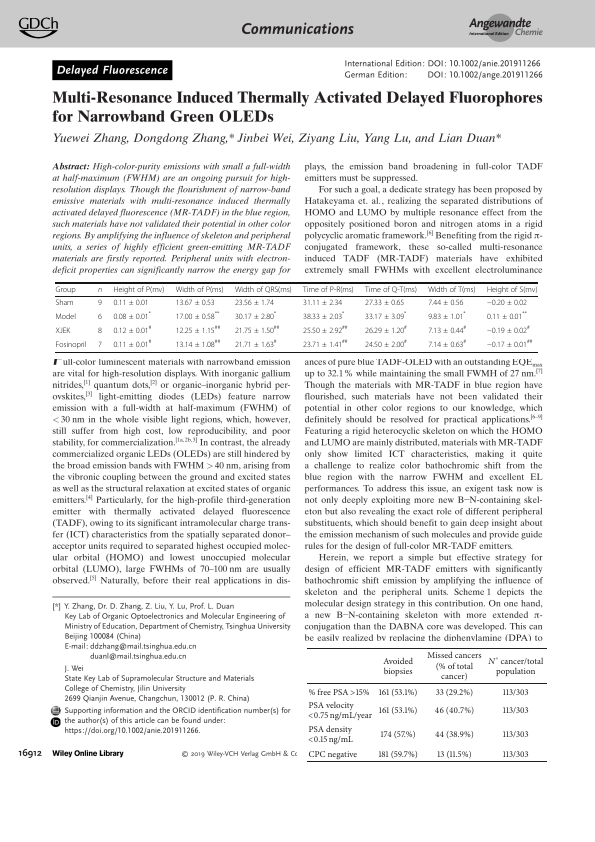borderless: (55, 281, 538, 352), (305, 646, 547, 761)
cell: (426, 651, 483, 682), (307, 700, 373, 723), (487, 652, 544, 677), (307, 724, 354, 747), (307, 683, 371, 699), (382, 656, 414, 677), (307, 749, 358, 760), (234, 285, 293, 294), (486, 338, 533, 349), (175, 324, 221, 335), (234, 324, 280, 335), (302, 324, 348, 335), (175, 338, 221, 349), (302, 338, 348, 349), (175, 310, 220, 321), (486, 324, 531, 335), (364, 285, 418, 294), (364, 324, 408, 335), (234, 338, 278, 349), (364, 338, 408, 349), (112, 285, 165, 294), (302, 285, 355, 294), (234, 310, 277, 321), (302, 310, 345, 321), (364, 310, 407, 321), (486, 285, 538, 294), (377, 749, 419, 760), (486, 310, 528, 321), (434, 705, 475, 716), (434, 729, 475, 740), (427, 285, 477, 294), (175, 285, 224, 294), (378, 705, 418, 716), (112, 310, 152, 321), (427, 310, 467, 321), (112, 324, 152, 335), (427, 324, 467, 335), (112, 338, 152, 349), (427, 338, 467, 349), (380, 729, 417, 740), (436, 749, 473, 760), (378, 687, 418, 697), (435, 687, 474, 697), (486, 298, 528, 307), (175, 298, 216, 307), (234, 298, 275, 307), (302, 298, 343, 307), (364, 298, 405, 307), (112, 298, 150, 307), (427, 298, 464, 307), (502, 705, 530, 716), (502, 729, 530, 740), (502, 749, 530, 760), (55, 340, 87, 349), (502, 687, 530, 697), (55, 312, 77, 321), (55, 285, 76, 294), (55, 298, 74, 307), (55, 326, 71, 335), (97, 298, 103, 307), (97, 312, 103, 321), (97, 326, 103, 335), (97, 340, 103, 349), (97, 287, 103, 293)
